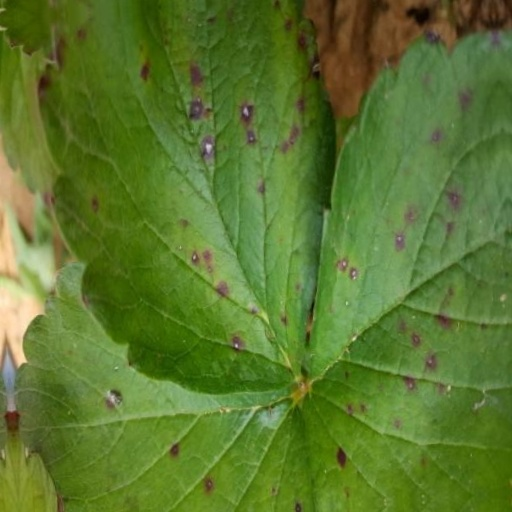Leaf Spot: (49, 118, 347, 511), (287, 0, 511, 468), (1, 0, 296, 260)
